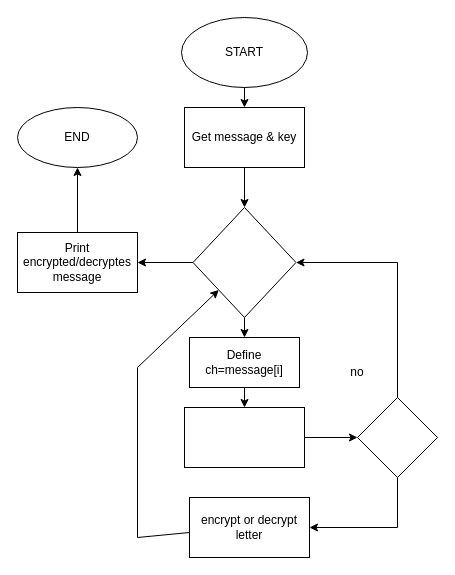
Image size: 455x575. Some labels were removed from this diagram. Each missing label, with the centre of its shape:
define wrap= key[i%lengthofkey]: point 244,437
is ch uppercase?: point 397,437
is int i larger than length of message?: point 244,262
